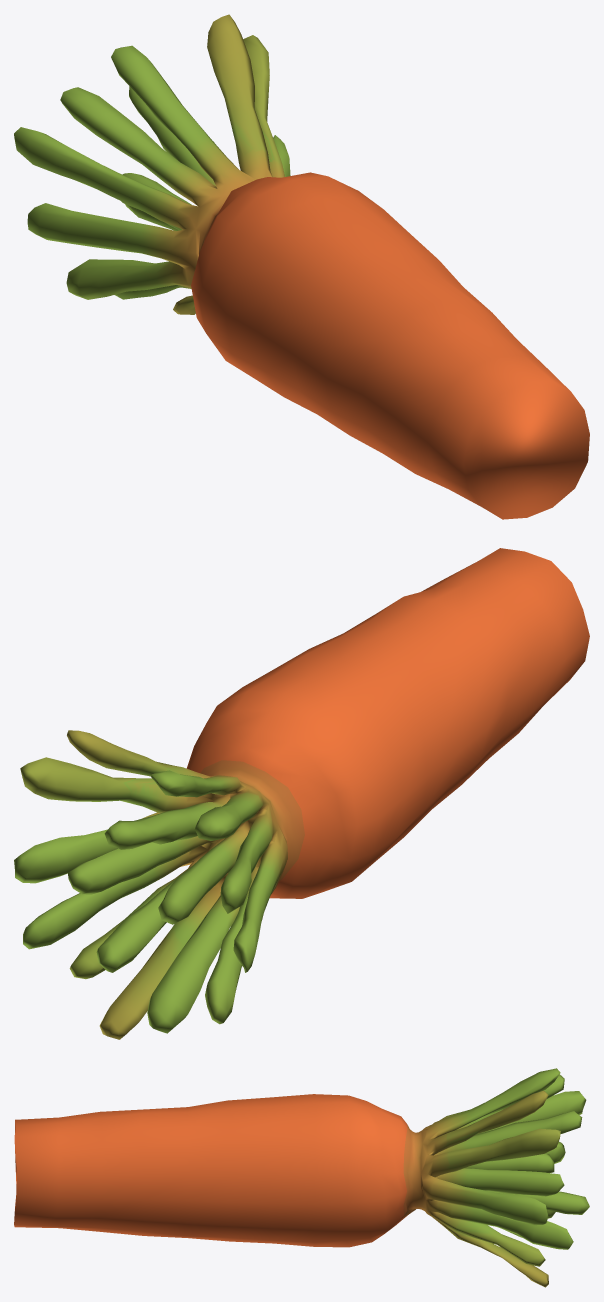
The model's file is carrot_cut3.fbx.
3 views of the same model, one above another, from view 1: azimuth 30°, elevation 25°; view 2: azimuth 150°, elevation 25°; view 3: azimuth 270°, elevation 25° (orthographic). The views are drawn at different scales.
Visible parts, largest first — view 1: Cylinder.001; view 2: Cylinder.001; view 3: Cylinder.001.
Boxes of the visible parts, x1,y1,x2,y2 form: Cylinder.001: (14,14,589,519); Cylinder.001: (14,548,589,1039); Cylinder.001: (14,1068,589,1287).
Bounding box in the file's own units: 97.11 × 110 × 279.
